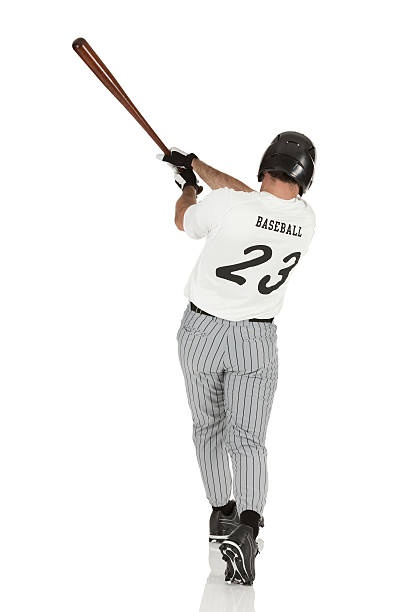bita: (72, 41, 185, 171)
